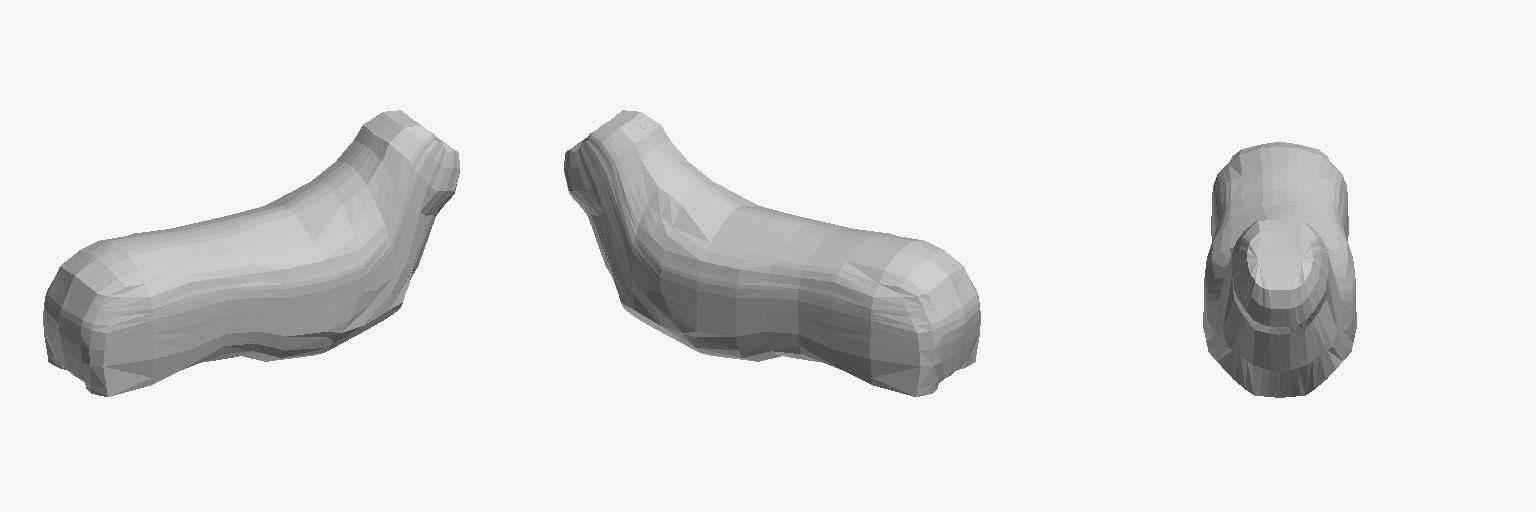
File: dog_body_sans_head.obj
The picture shows the model from 3 angles: view 1: azimuth 30°, elevation 25°; view 2: azimuth 150°, elevation 25°; view 3: azimuth 270°, elevation 25°; orthographic projection.
Visible parts, largest first — view 1: dog_Cube.001; view 2: dog_Cube.001; view 3: dog_Cube.001.
Boxes of the visible parts, x1=… form: dog_Cube.001: x1=43, y1=110, x2=459, y2=396; dog_Cube.001: x1=564, y1=110, x2=980, y2=396; dog_Cube.001: x1=1203, y1=142, x2=1356, y2=397.
Size of the model in its own units: 4.3 by 2.13 by 1.45.